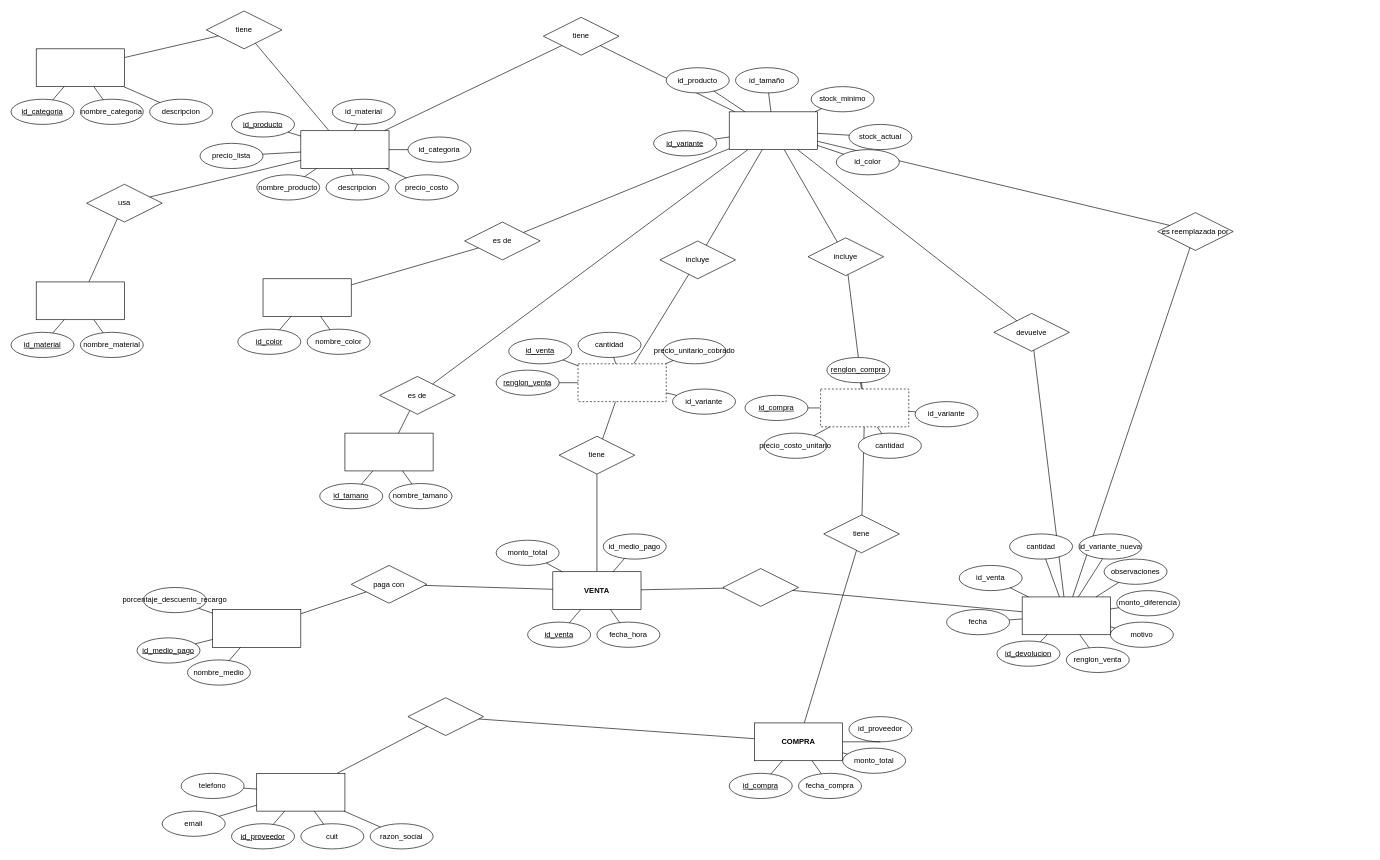
Some shapes in this 1380 by 860 pixel diagram are drawn without their labels. The box of each missing label's shape, as (x1, y1, x2, y2) in pixels:
CATEGORIA: (36, 48, 124, 87)
COLOR: (262, 278, 351, 317)
DETALLE_COMPRA: (820, 388, 909, 427)
DETALLE_VENTA: (577, 363, 666, 402)
DEVOLUCION: (1022, 596, 1110, 635)
MATERIAL: (36, 281, 124, 320)
MEDIO_PAGO: (212, 609, 301, 647)
origina: (722, 568, 799, 606)
PRODUCTO: (300, 130, 389, 169)
PROVEEDOR: (256, 773, 345, 811)
recibe: (407, 697, 484, 736)
TAMANO: (344, 432, 433, 471)
VARIANTE_PRODUCTO: (729, 111, 817, 150)
